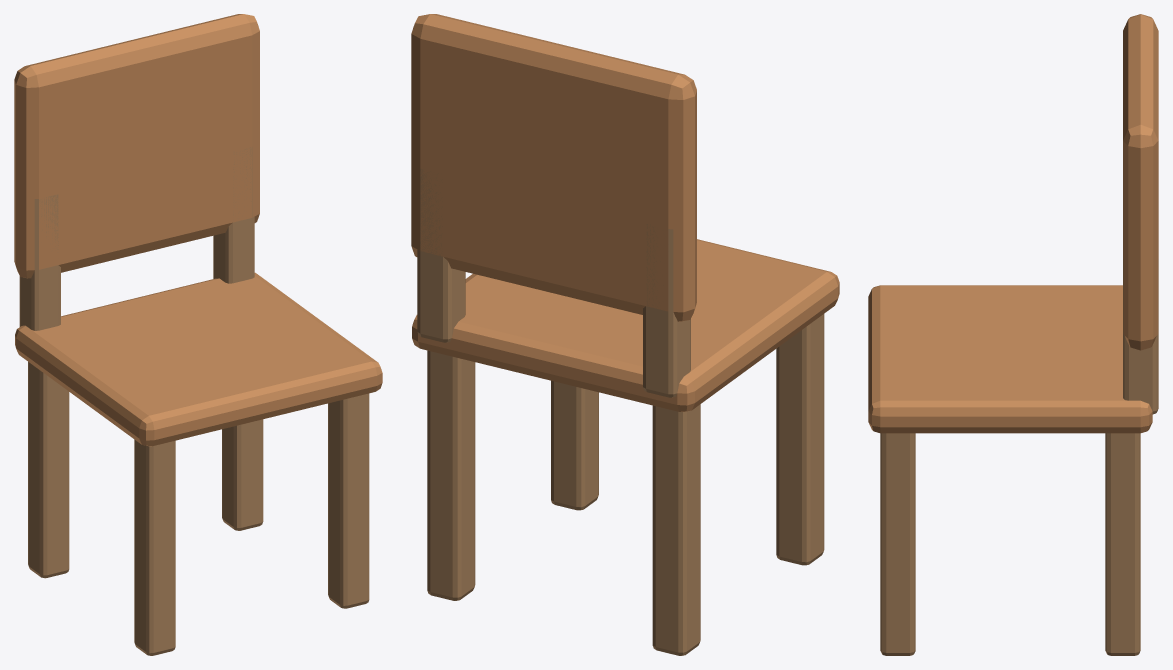
3 renders of one model, left to right at view 1: azimuth 30°, elevation 25°; view 2: azimuth 150°, elevation 25°; view 3: azimuth 270°, elevation 25°, orthographic. The views are drawn at different scales.
Parts seen in each view (by area): view 1: Deco chair; view 2: Deco chair; view 3: Deco chair.
Boxes of the visible parts, bbox=[...] form: Deco chair: bbox=[14, 14, 382, 655]; Deco chair: bbox=[411, 14, 839, 655]; Deco chair: bbox=[868, 14, 1158, 655].
Bounding box in the file's own units: 0.7 × 1.39 × 0.686.
